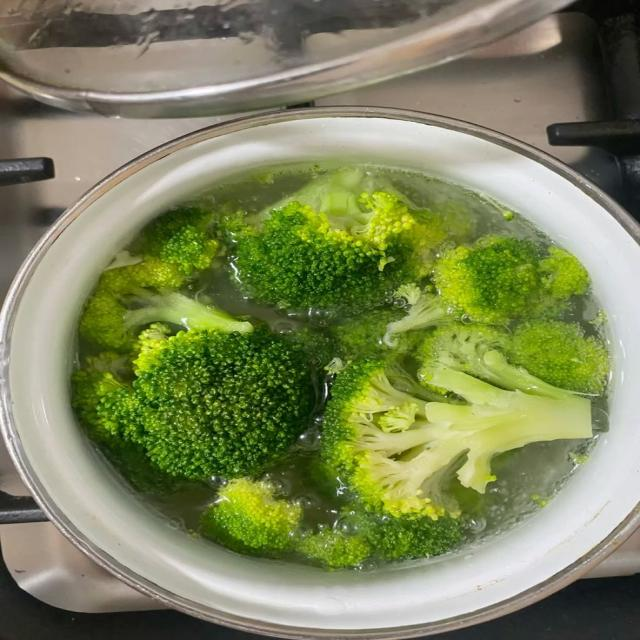broccoli: (323, 350, 591, 519), (74, 306, 314, 480), (223, 170, 429, 315), (134, 330, 314, 479), (407, 366, 592, 492), (321, 359, 456, 519), (234, 193, 414, 313), (80, 209, 219, 350), (73, 353, 186, 493), (418, 320, 608, 394), (434, 237, 589, 323), (298, 505, 461, 569), (80, 257, 185, 349), (260, 168, 416, 225), (334, 284, 450, 358), (200, 478, 302, 557), (508, 321, 609, 394), (124, 291, 253, 333), (352, 511, 462, 560), (141, 207, 220, 275), (383, 283, 451, 350), (334, 308, 404, 358), (298, 530, 371, 569)
